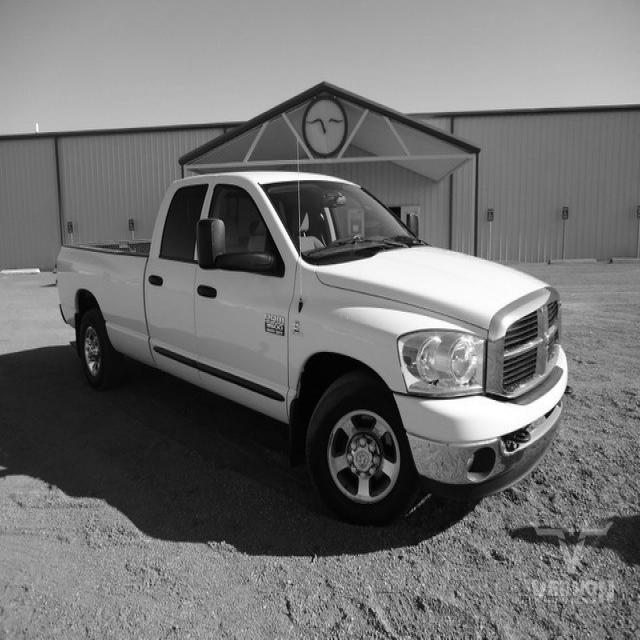car: (55, 168, 568, 525)
